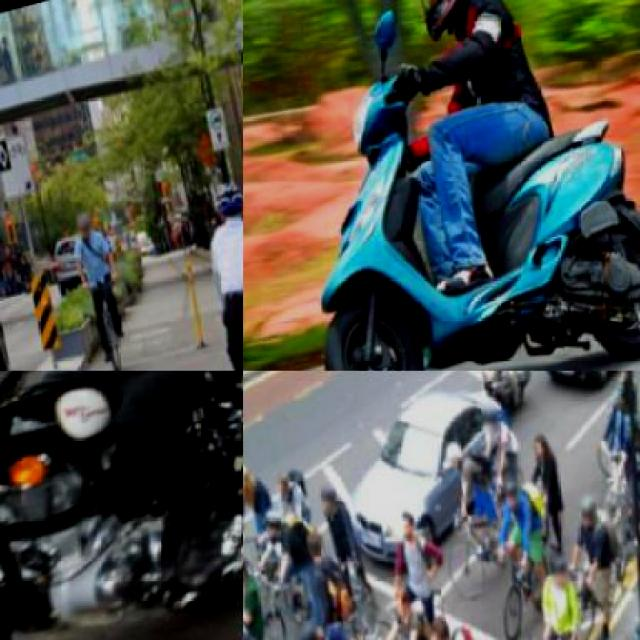With Helmet: (397, 0, 505, 48), (206, 176, 242, 224), (550, 552, 579, 596), (70, 207, 102, 245), (579, 489, 606, 531), (502, 476, 528, 518), (480, 402, 506, 440), (319, 482, 344, 518), (294, 617, 334, 638)
Without Helmet: (391, 498, 432, 550), (243, 462, 262, 503), (243, 551, 260, 595), (432, 612, 460, 638)
